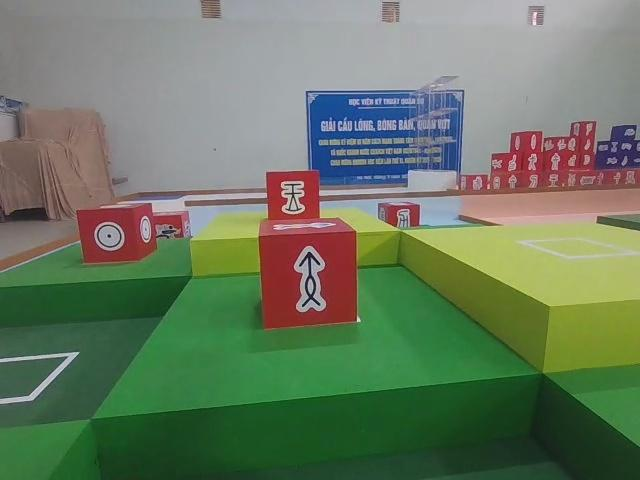R2 Real: (255, 215, 362, 333), (73, 200, 159, 269), (261, 167, 322, 225)
